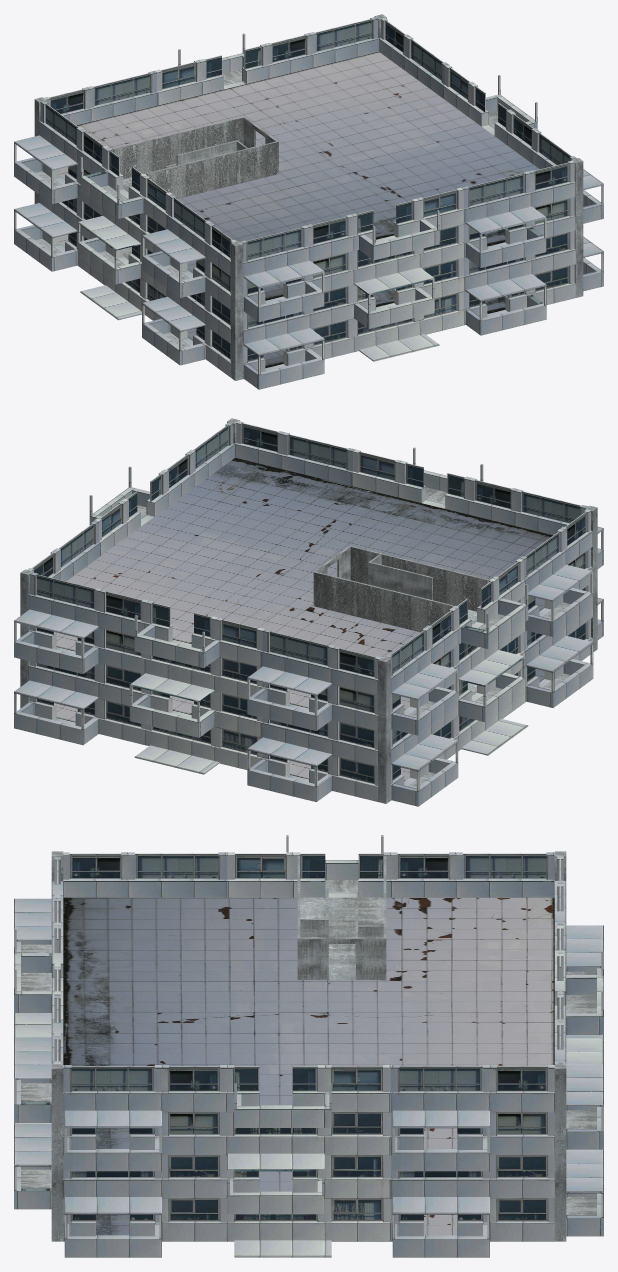
The model's file is BagSS06mid_500.fbx.
3 views of the same model, one above another, from view 1: azimuth 30°, elevation 25°; view 2: azimuth 150°, elevation 25°; view 3: azimuth 270°, elevation 25° (orthographic). The views are drawn at different scales.
Parts seen in each view (by area): view 1: midMain500, midFloors500, midWalls500, midBeams500, midBalcFloors500; view 2: midMain500, midFloors500, midWalls500, midBeams500, midBalcFloors500; view 3: midMain500, midFloors500, midWalls500, midBeams500, midBalcFloors500.
Boxes of the visible parts, x1=… form: midMain500: x1=14, y1=17, x2=603, y2=389; midFloors500: x1=59, y1=52, x2=539, y2=368; midWalls500: x1=112, y1=116, x2=278, y2=259; midBeams500: x1=34, y1=14, x2=583, y2=380; midBalcFloors500: x1=35, y1=69, x2=497, y2=347; midMain500: x1=14, y1=421, x2=603, y2=806; midFloors500: x1=54, y1=457, x2=552, y2=781; midWalls500: x1=313, y1=545, x2=488, y2=696; midBeams500: x1=20, y1=418, x2=597, y2=803; midBalcFloors500: x1=137, y1=487, x2=570, y2=788; midMain500: x1=14, y1=835, x2=603, y2=1257; midFloors500: x1=63, y1=897, x2=554, y2=1235; midWalls500: x1=297, y1=856, x2=386, y2=979; midBeams500: x1=51, y1=851, x2=566, y2=1241; midBalcFloors500: x1=21, y1=880, x2=596, y2=1214.
Size of the model in its own units: 46.05 by 14.88 by 46.05.
